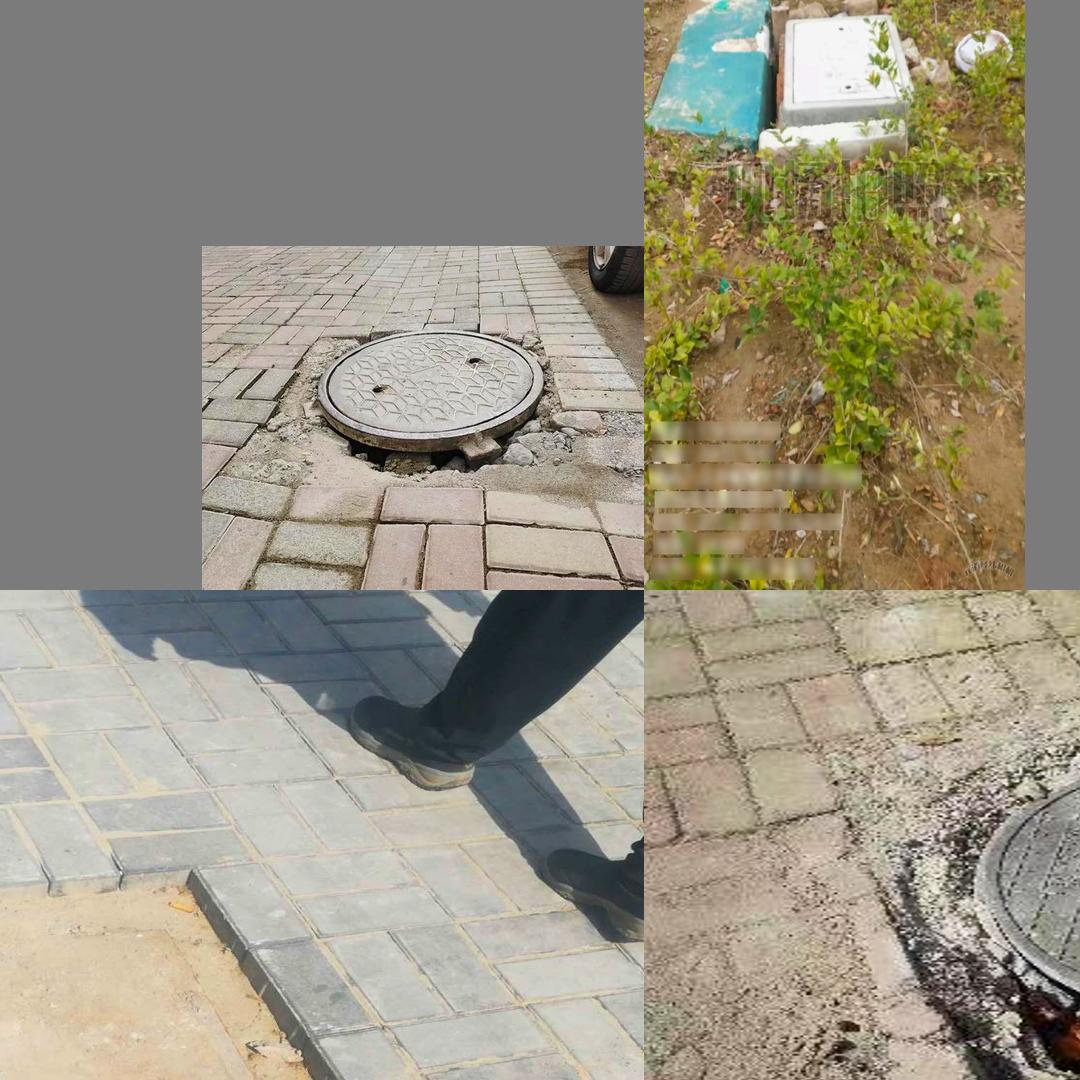circle: (0, 894, 527, 1080), (880, 731, 1080, 1068), (233, 320, 585, 508), (756, 4, 924, 149)
